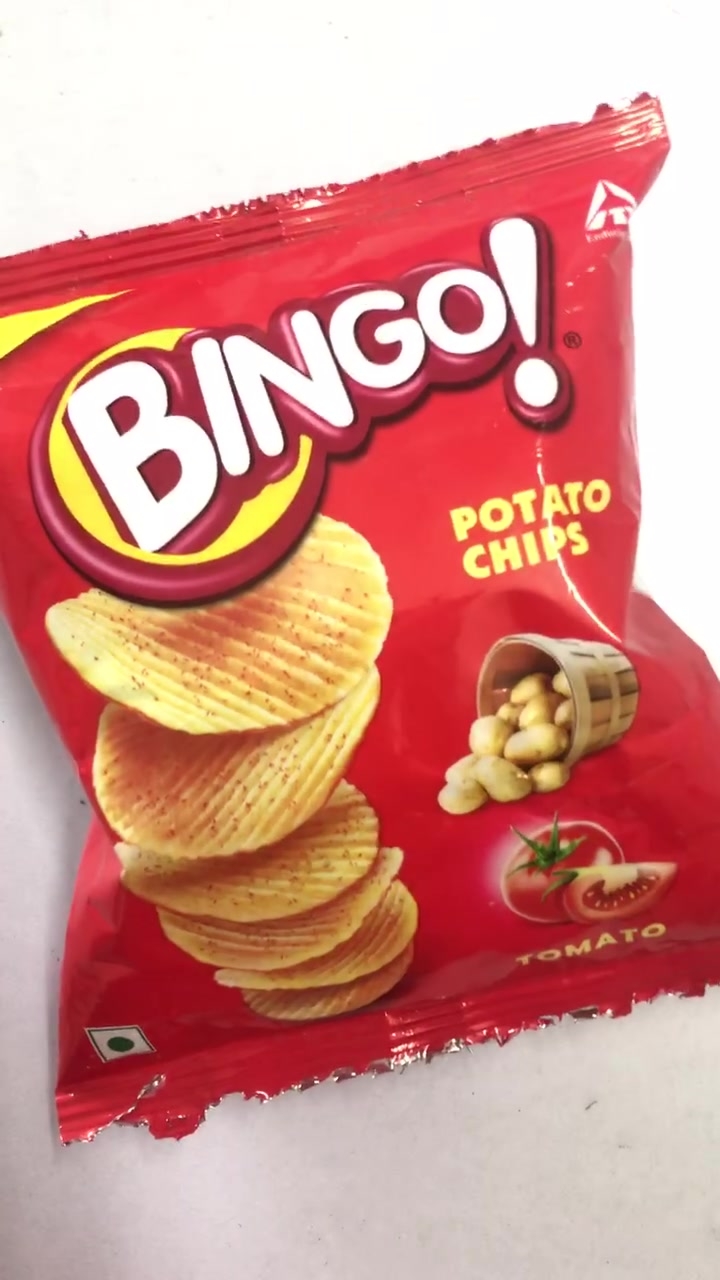Bingo: (5, 117, 713, 1118)
